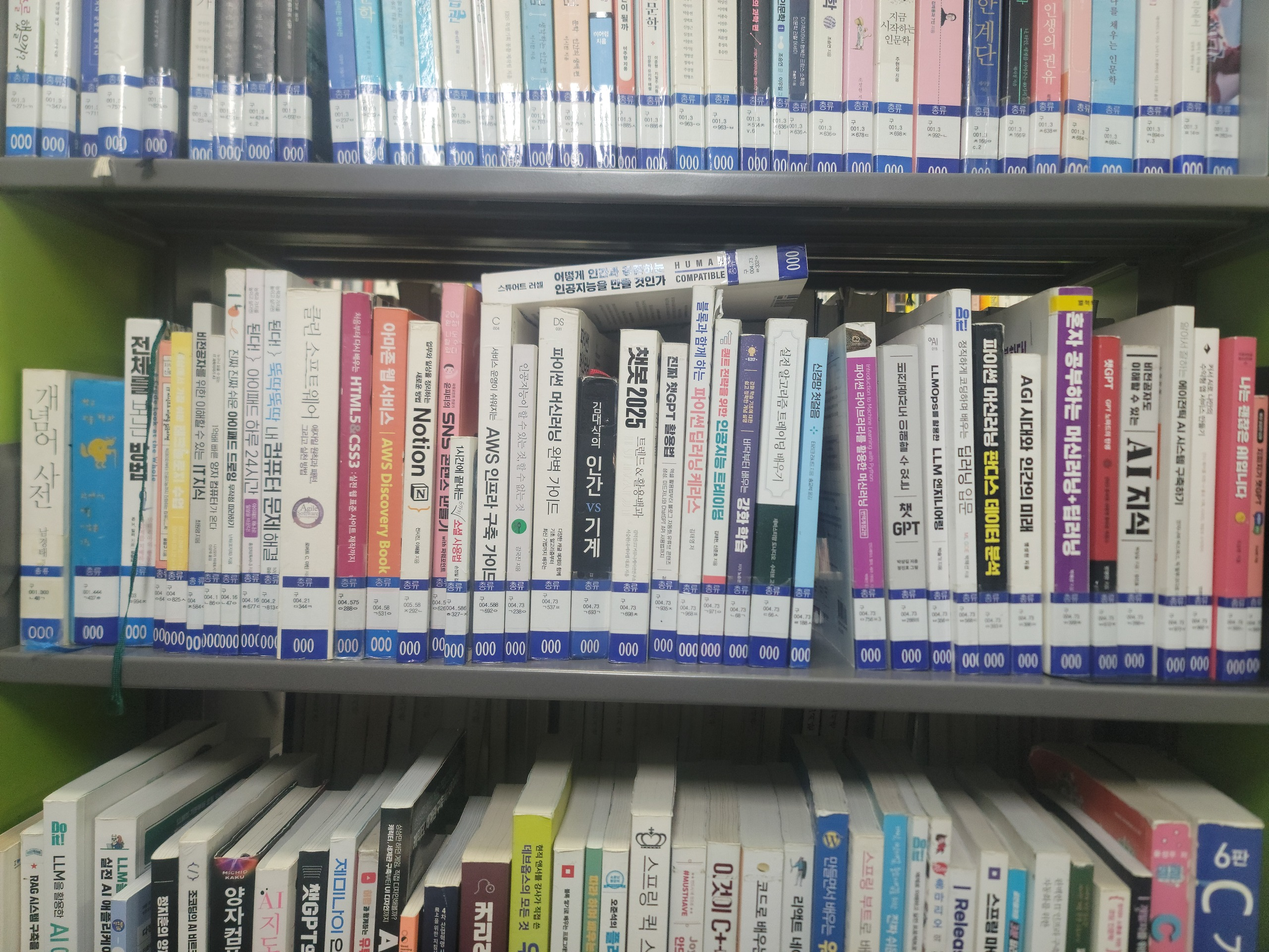book-spine: (277, 291, 341, 659), (481, 241, 810, 306), (748, 318, 807, 671), (528, 307, 579, 660), (607, 328, 658, 664), (427, 275, 468, 660), (881, 343, 929, 670), (843, 322, 888, 669), (1052, 289, 1092, 676), (674, 286, 715, 663), (469, 304, 512, 663), (331, 293, 373, 659), (364, 307, 407, 661), (697, 317, 739, 667), (395, 322, 438, 663), (70, 380, 124, 651), (1117, 345, 1161, 677), (567, 378, 618, 664), (721, 333, 764, 667), (787, 338, 829, 668), (972, 323, 1011, 675), (646, 343, 688, 665), (117, 319, 157, 652), (1160, 304, 1195, 679), (20, 369, 67, 647), (1219, 335, 1256, 682), (1185, 328, 1219, 679), (949, 294, 980, 674), (258, 272, 287, 657), (502, 344, 537, 663), (922, 325, 954, 671), (1010, 354, 1044, 674), (1090, 335, 1121, 677), (238, 271, 265, 654), (219, 269, 244, 654), (184, 304, 209, 655), (165, 332, 192, 652), (201, 331, 225, 654), (1242, 393, 1268, 680), (442, 437, 472, 667), (152, 352, 173, 652)
